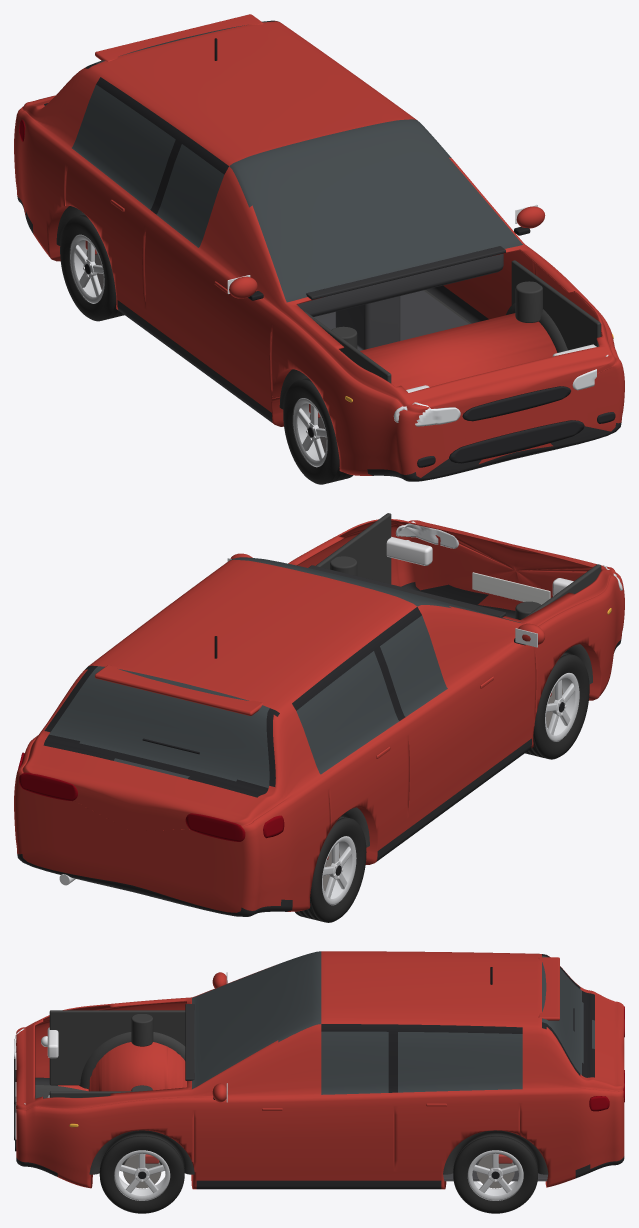
Rendered from Hatch.fbx.
3 views of the same model, one above another, from view 1: azimuth 30°, elevation 25°; view 2: azimuth 150°, elevation 25°; view 3: azimuth 270°, elevation 25° (orthographic). The views are drawn at different scales.
Parts seen in each view (by area): view 1: Hatch_LOD0; view 2: Hatch_LOD0; view 3: Hatch_LOD0.
Part boxes in pixels (box(x1,y1,x2,y2)): Hatch_LOD0: box(14, 14, 624, 484); Hatch_LOD0: box(14, 513, 624, 922); Hatch_LOD0: box(14, 951, 624, 1213).
Size of what is drawn, in the model's own units: 2.1 by 1.6 by 4.46.
